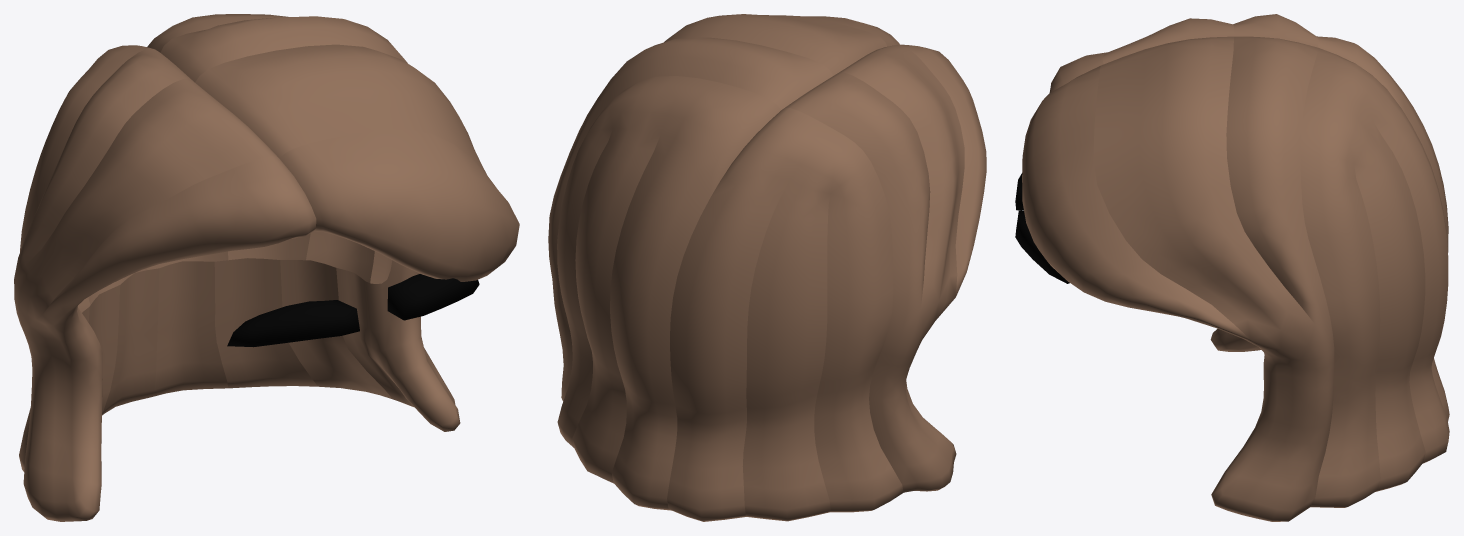
3 renders of one model, left to right at view 1: azimuth 30°, elevation 25°; view 2: azimuth 150°, elevation 25°; view 3: azimuth 270°, elevation 25°, orthographic. The views are drawn at different scales.
Visible parts, largest first — view 1: 29女发3; view 2: 29女发3; view 3: 29女发3.
Boxes of the visible parts, x1,y1,x2,y2 form: 29女发3: (14,14,519,521); 29女发3: (548,14,986,521); 29女发3: (1015,14,1449,521).
Size of the model in its own units: 0.4431 by 0.445 by 0.4443.
